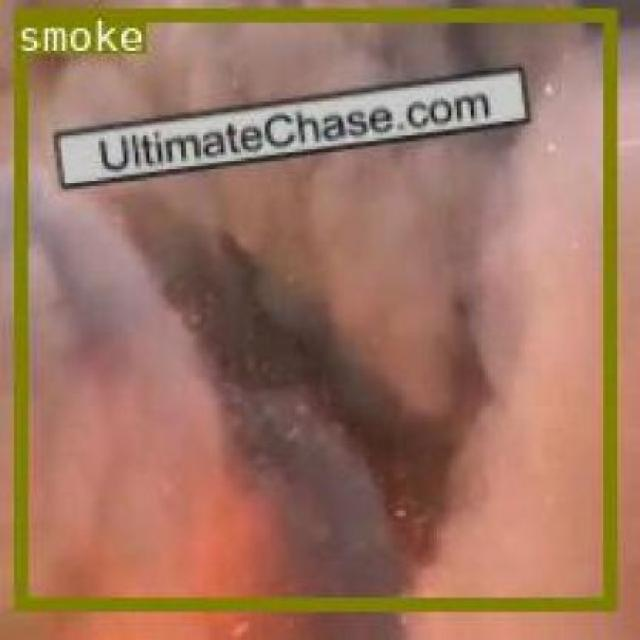Smoke: (13, 6, 615, 608)
